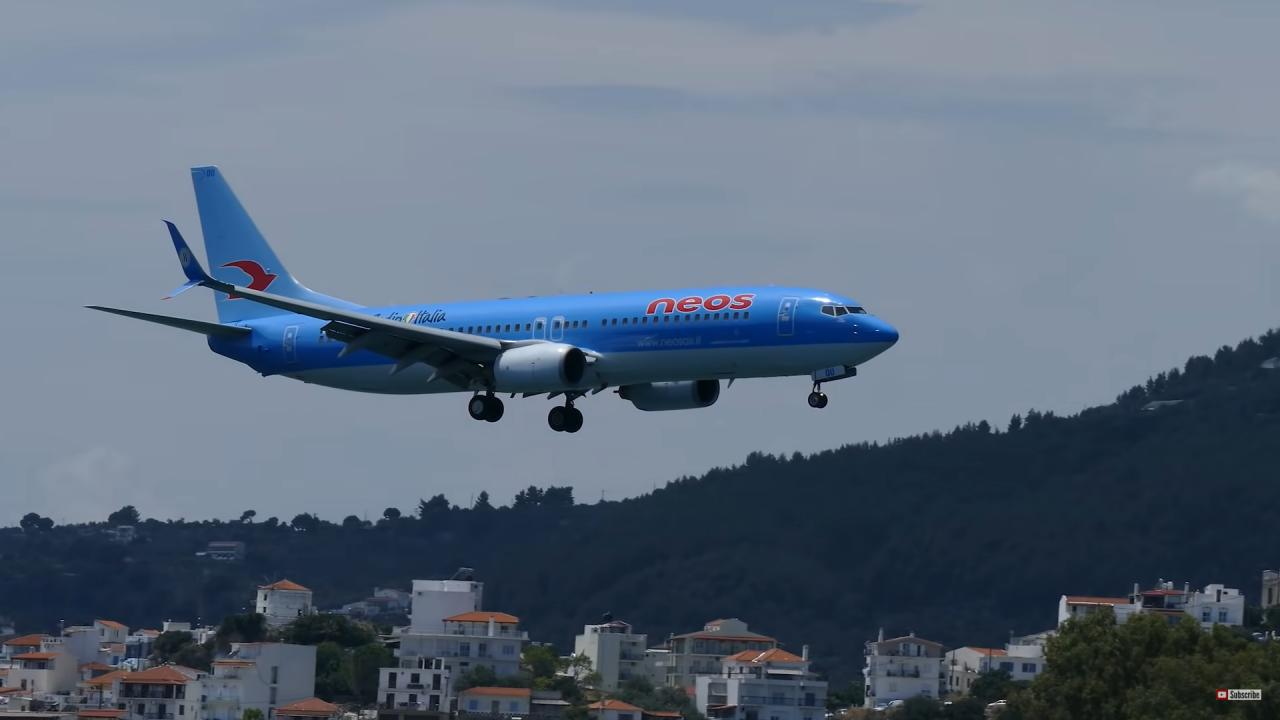Airplane: (68, 156, 914, 440)
